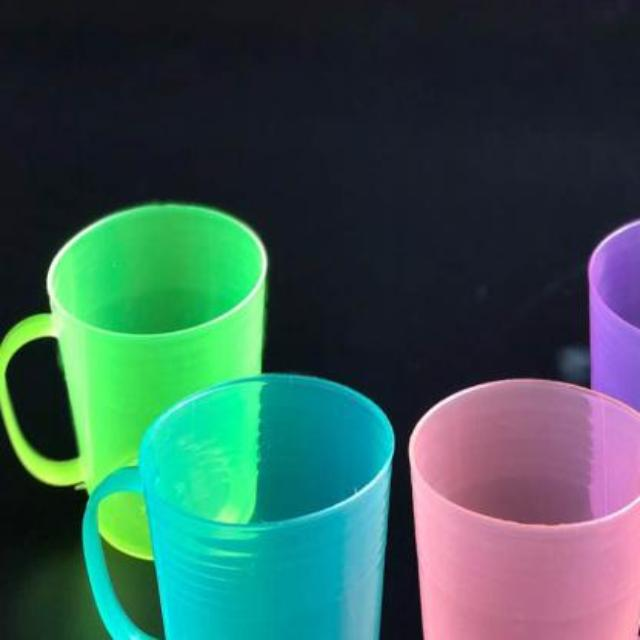plastic_cup: (0, 205, 266, 561), (82, 372, 386, 638), (410, 376, 640, 640), (581, 218, 639, 570)
